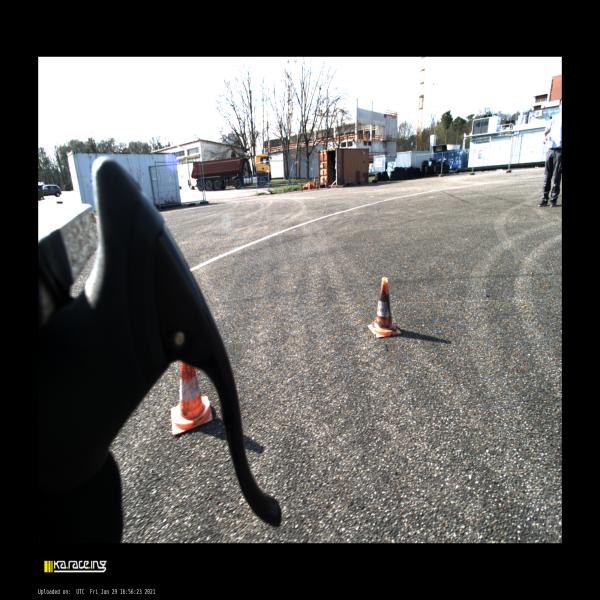orange_cone: (171, 362, 213, 436), (368, 277, 402, 338)
